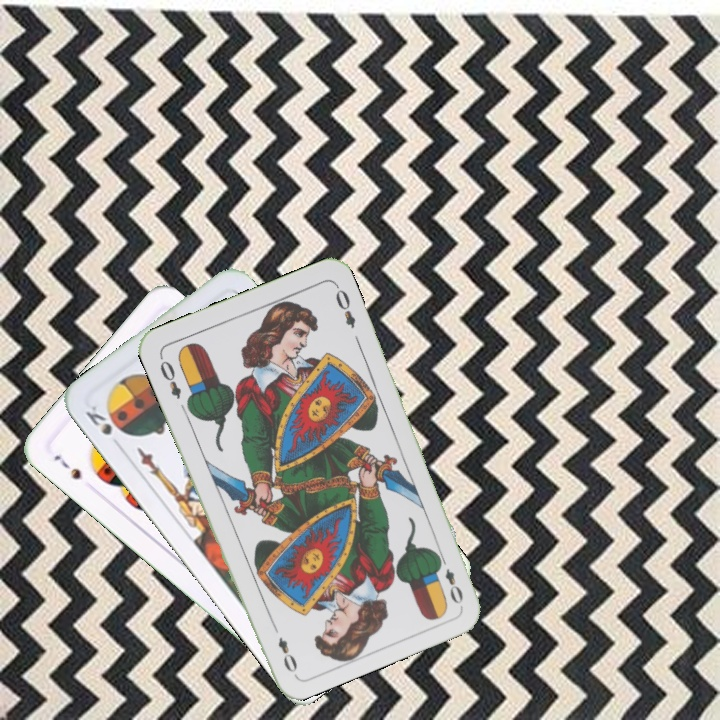EO: (434, 551, 466, 607), (155, 352, 184, 402)
S7: (49, 450, 84, 483)
SK: (81, 401, 124, 451)
